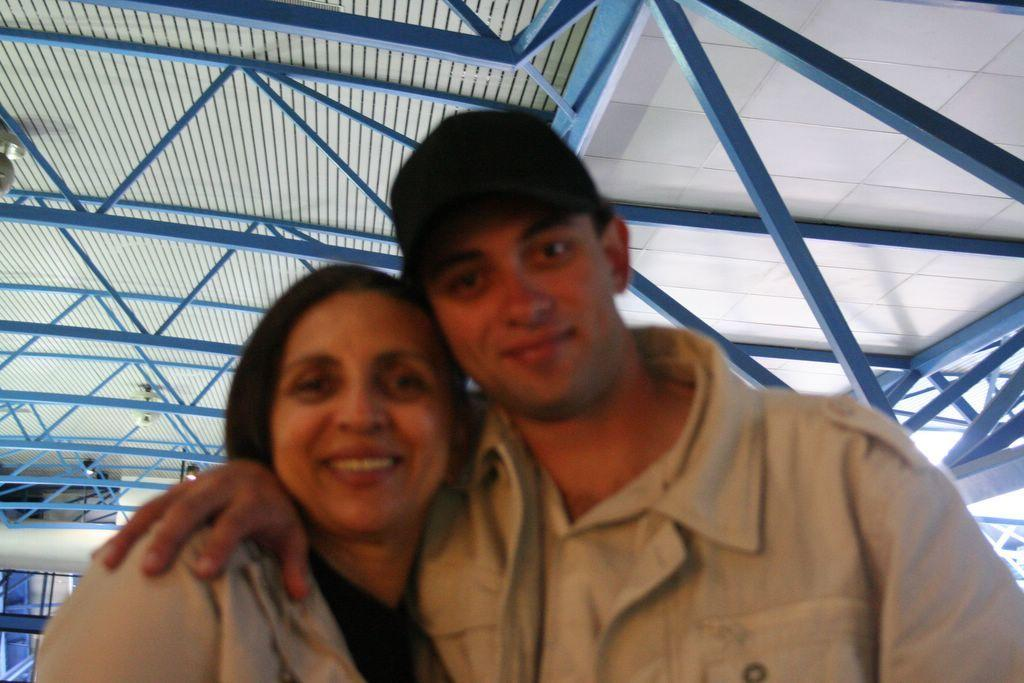Hat: (390, 117, 612, 288)
